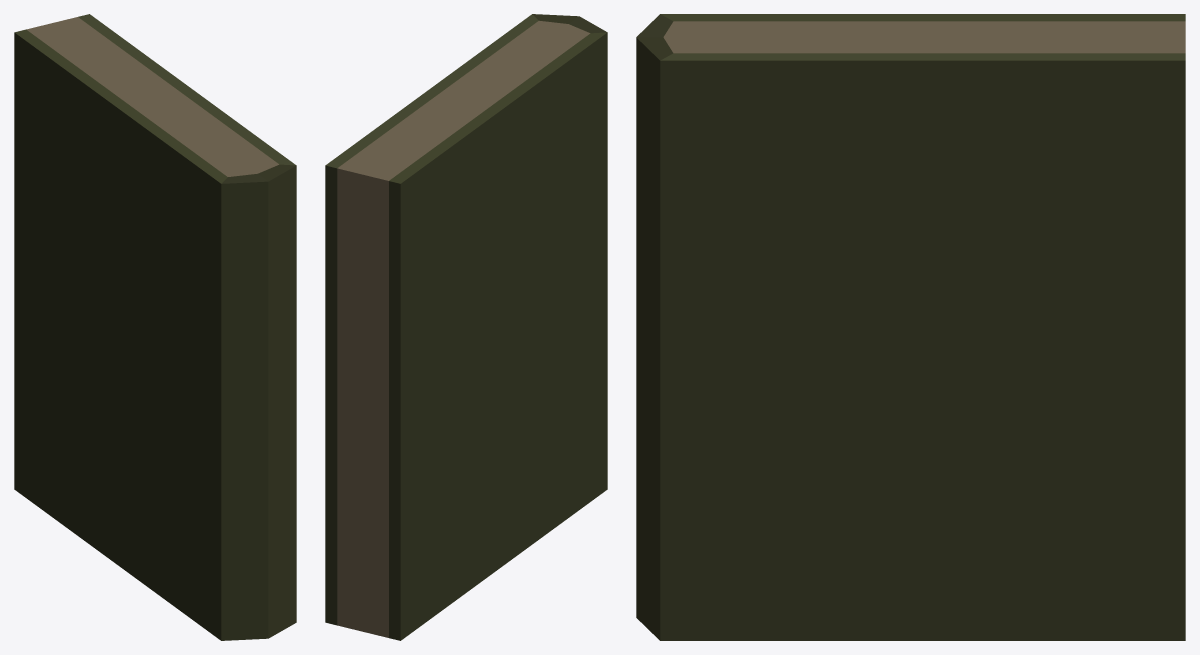
File: Prop_BookG.fbx
3 renders of one model, left to right at view 1: azimuth 30°, elevation 25°; view 2: azimuth 150°, elevation 25°; view 3: azimuth 270°, elevation 25°, orthographic. The views are drawn at different scales.
Visible parts, largest first — view 1: Prop_BookG; view 2: Prop_BookG; view 3: Prop_BookG.
Boxes of the visible parts, x1,y1,x2,y2 form: Prop_BookG: [14, 14, 296, 640]; Prop_BookG: [325, 14, 607, 640]; Prop_BookG: [636, 14, 1185, 640].
Size of the model in its own units: 4.47 by 25.92 by 22.25.
